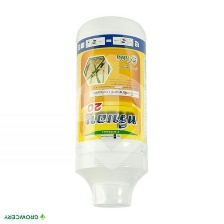insecticide: (72, 13, 152, 215)
